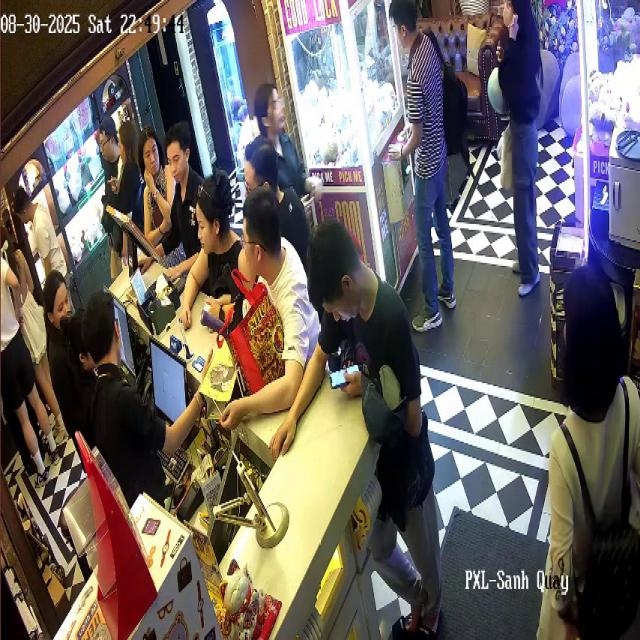khach: (300, 262, 444, 512), (553, 278, 630, 640), (382, 15, 464, 335), (484, 6, 548, 299), (242, 206, 311, 336), (0, 270, 43, 468), (10, 187, 65, 279), (142, 136, 176, 246), (195, 172, 233, 270)
nhan vien: (90, 287, 194, 501), (264, 93, 325, 220), (170, 133, 206, 269), (64, 316, 98, 453), (45, 267, 68, 349)
